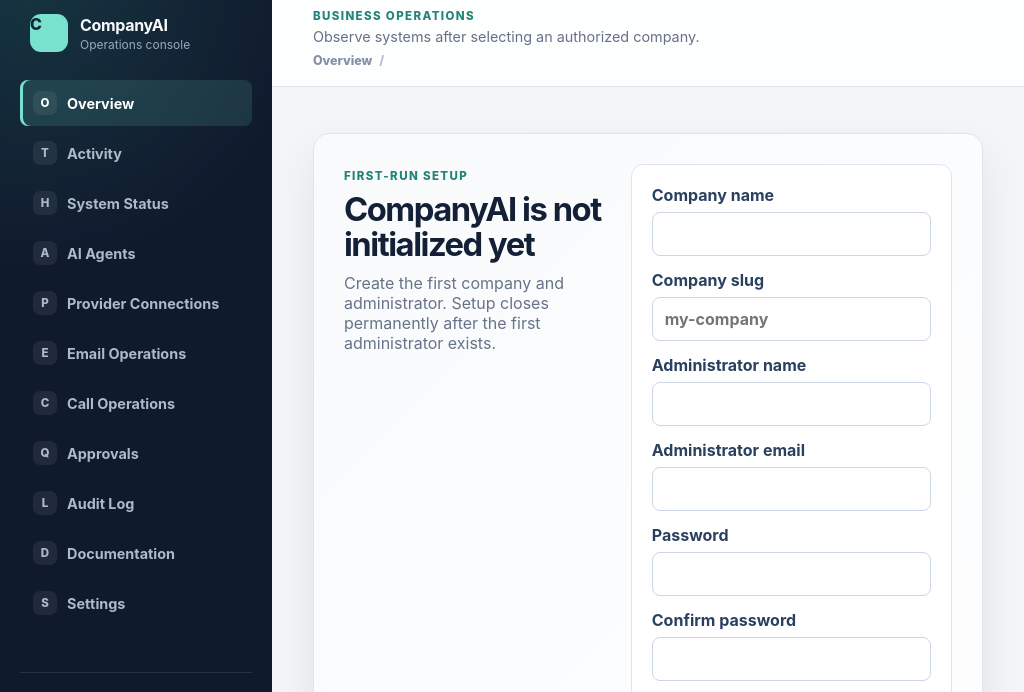
Test: first-run wizard initializes without rendering secrets
Expected: the heading "CompanyAI is not initialized yet" is shown, x1=344 y1=192 x2=607 y2=263
In the field labelled "Company name": (791, 234) x1=652 y1=212 x2=931 y2=256, type "HVAC Company"
In the field labelled "Company slug": (791, 319) x1=652 y1=297 x2=931 y2=341, type "hvac-company"
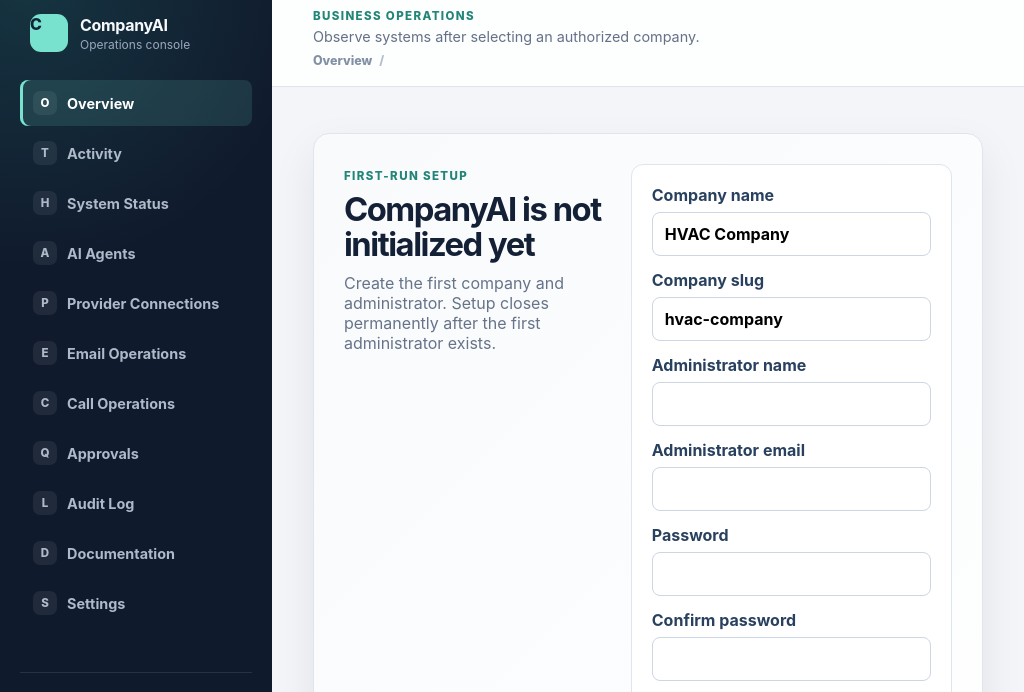
In the field labelled "Administrator name": (791, 404) x1=652 y1=382 x2=931 y2=426, type "Owner User"
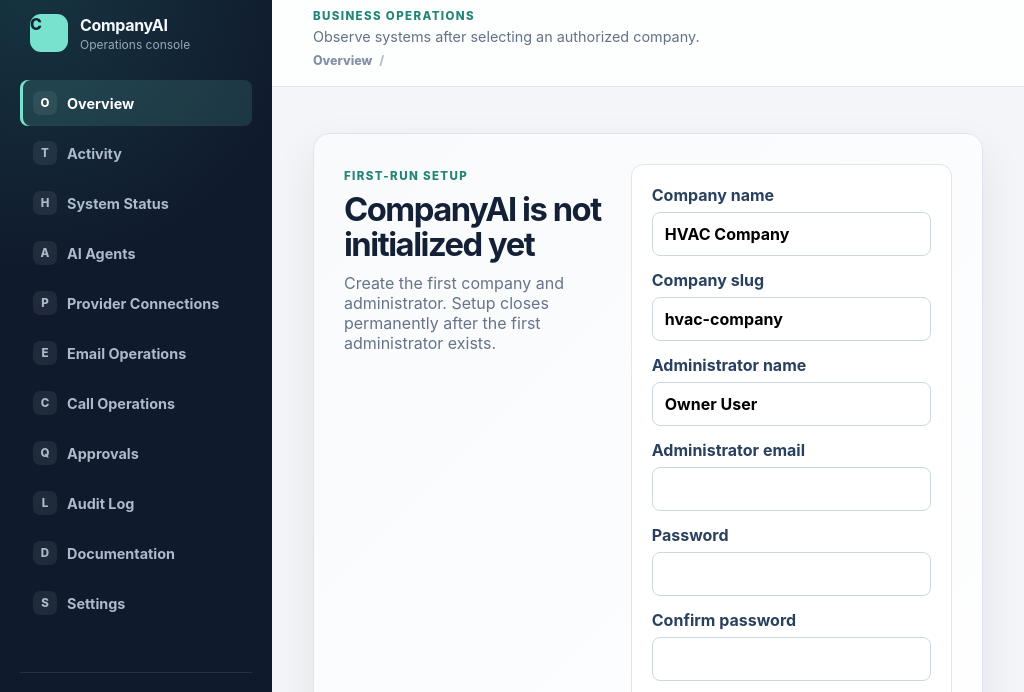
In the field labelled "Administrator email": (791, 489) x1=652 y1=467 x2=931 y2=511, type "OWNER@example.test"
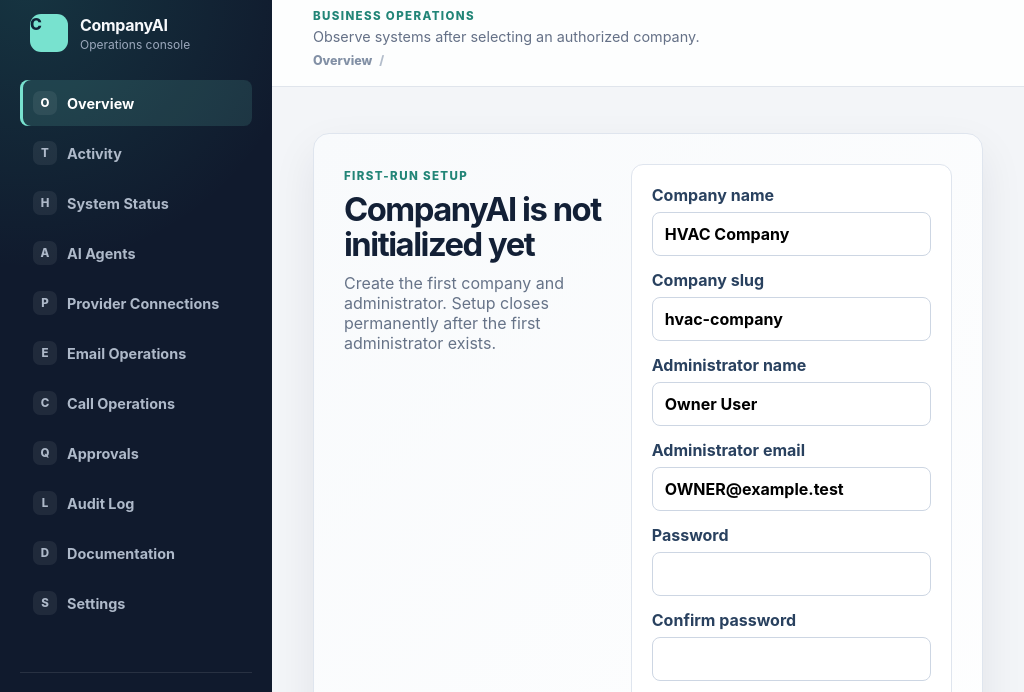
In the password field labelled "Password": (791, 574) x1=652 y1=552 x2=931 y2=596, type "Str0ng-local-setup!"
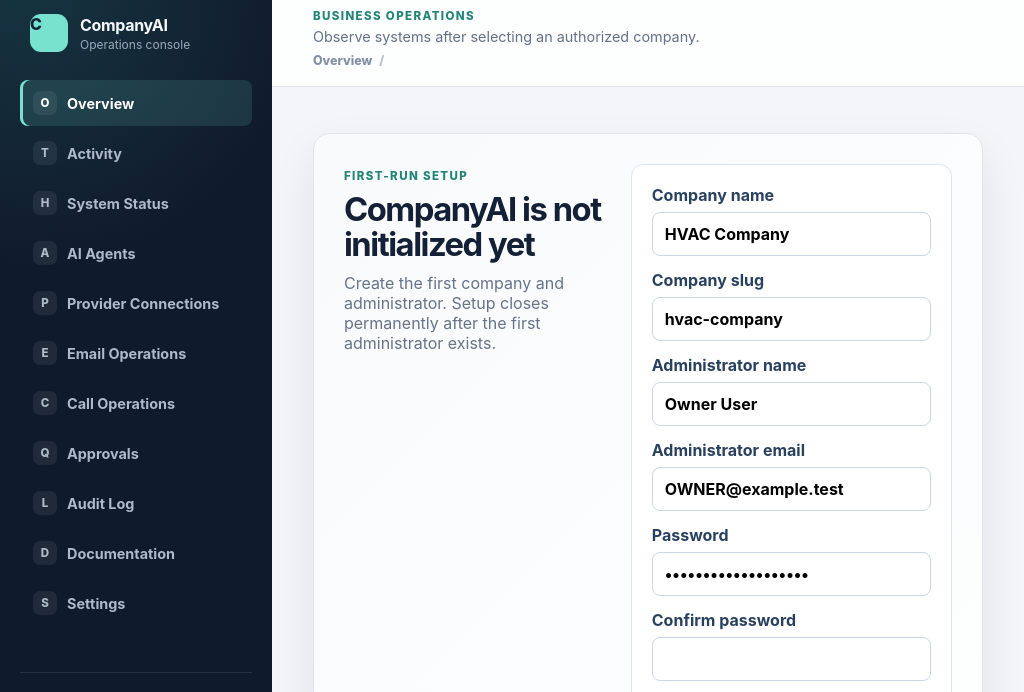
In the password field labelled "Confirm password": (791, 659) x1=652 y1=637 x2=931 y2=681, type "Str0ng-local-setup!"
(page scrolled)
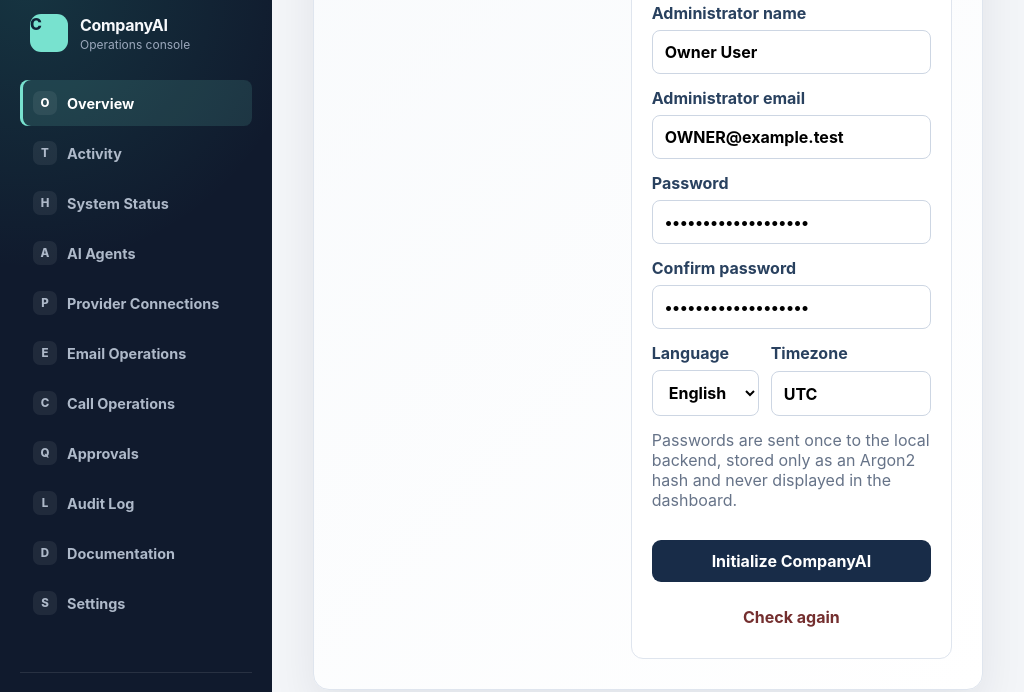
Click the button "Initialize CompanyAI": click(791, 561) x1=652 y1=540 x2=931 y2=582
(page scrolled)
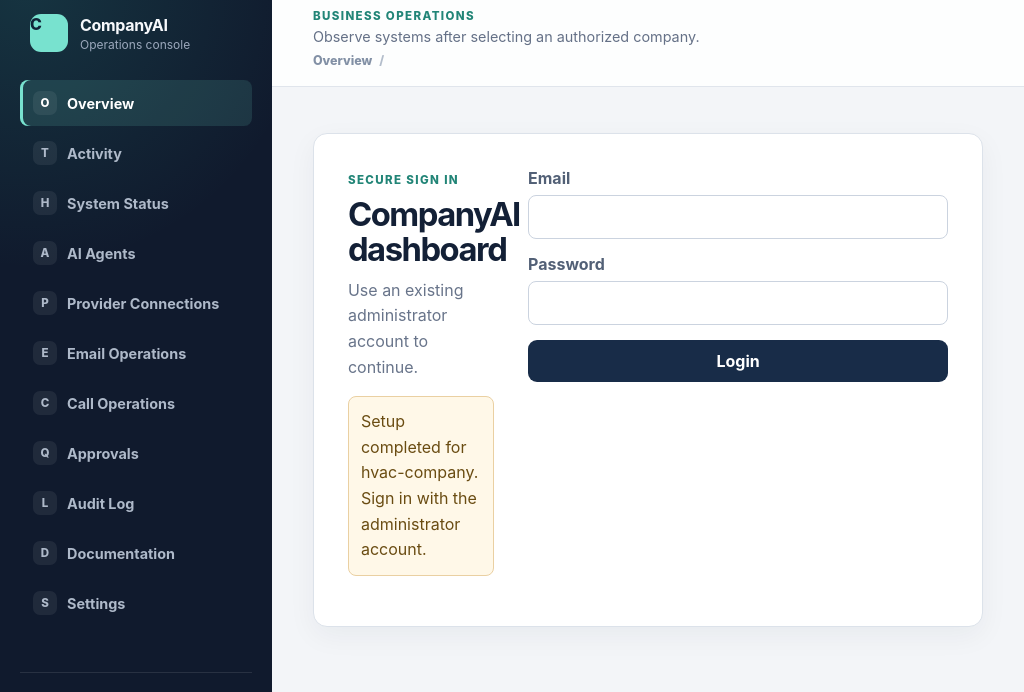
Result: the text "Setup completed for hvac-company. Sign in with the administrator account." is shown at x1=348 y1=396 x2=494 y2=576
Result: the heading "CompanyAI dashboard" is shown at x1=348 y1=197 x2=494 y2=268
